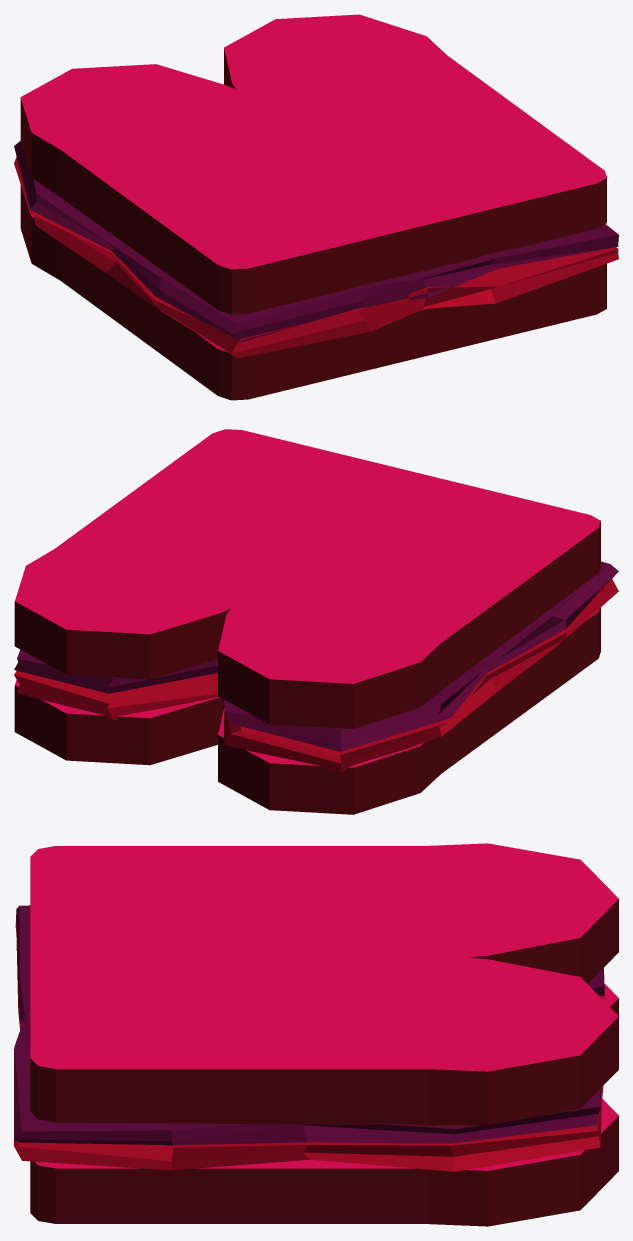
Rendered from PeanutButterAndJellySandwich_01.fbx.
3 renders of one model, top to bottom at view 1: azimuth 30°, elevation 25°; view 2: azimuth 150°, elevation 25°; view 3: azimuth 270°, elevation 25°, orthographic. The views are drawn at different scales.
Parts seen in each view (by area): view 1: PeanutButterAndJellySandwich_01; view 2: PeanutButterAndJellySandwich_01; view 3: PeanutButterAndJellySandwich_01.
Boxes of the visible parts, bbox=[...] form: PeanutButterAndJellySandwich_01: bbox=[14, 14, 618, 400]; PeanutButterAndJellySandwich_01: bbox=[14, 429, 618, 814]; PeanutButterAndJellySandwich_01: bbox=[14, 843, 618, 1226].
Bounding box in the file's own units: 7.56 × 2.29 × 8.09.
